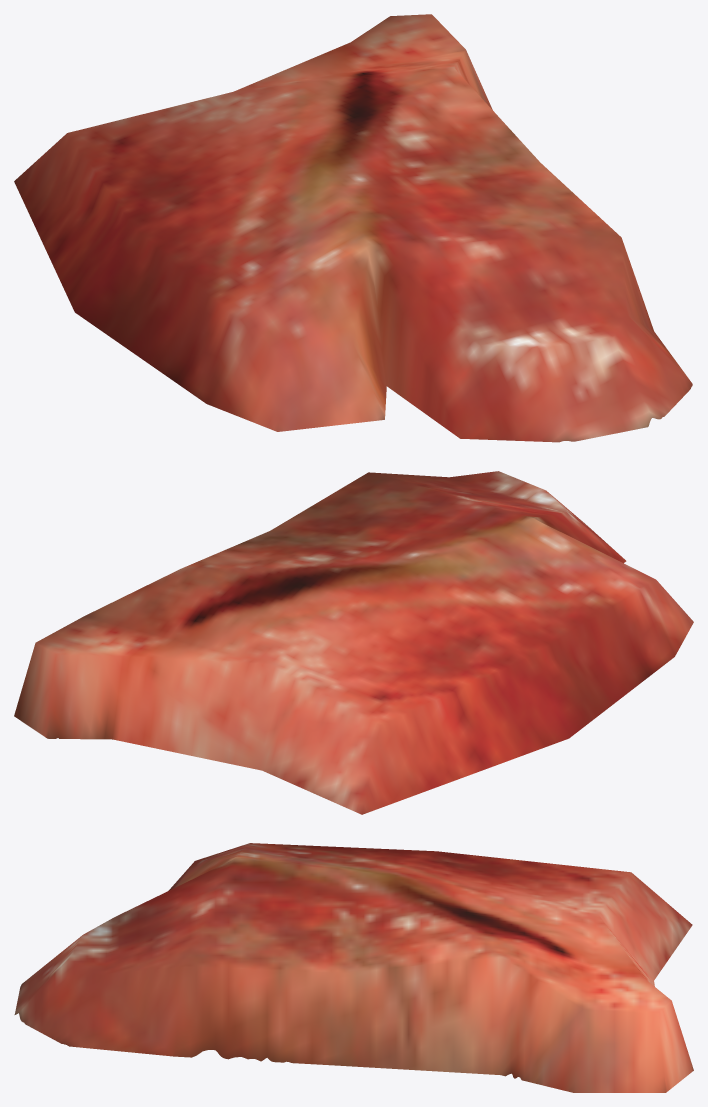
File: human_lungs.FBX
3 views of the same model, one above another, from view 1: azimuth 30°, elevation 25°; view 2: azimuth 150°, elevation 25°; view 3: azimuth 270°, elevation 25° (orthographic). The views are drawn at different scales.
Parts seen in each view (by area): view 1: lungs; view 2: lungs; view 3: lungs.
Boxes of the visible parts, x1,y1,x2,y2 form: lungs: (14,14,692,442); lungs: (14,471,693,814); lungs: (14,843,693,1092).
Bounding box in the file's own units: 34.07 × 7.68 × 48.06.
